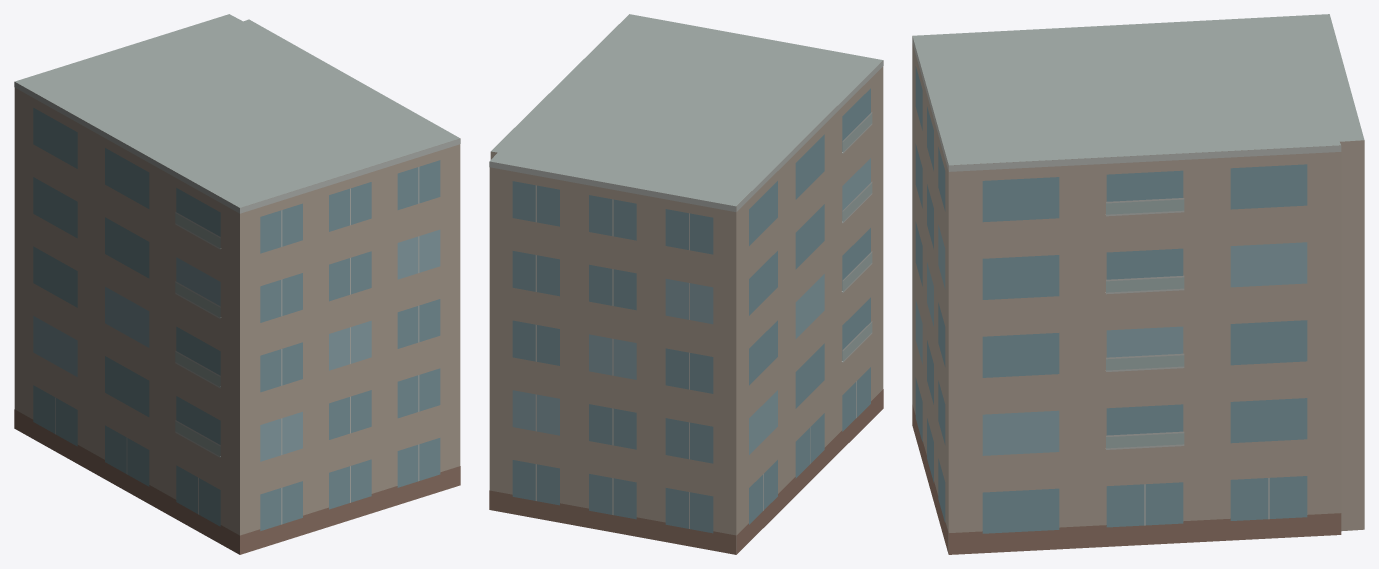
Rendered from survey-upis-32885169.glb.
3 renders of one model, left to right at view 1: azimuth 30°, elevation 25°; view 2: azimuth 150°, elevation 25°; view 3: azimuth 270°, elevation 25°, orthographic. The views are drawn at different scales.
Parts seen in each view (by area): view 1: survey-upis-32885169.tmp; view 2: survey-upis-32885169.tmp; view 3: survey-upis-32885169.tmp.
Part boxes in pixels (x1,y1,x2,y2): survey-upis-32885169.tmp: (14,14,460,554); survey-upis-32885169.tmp: (489,14,883,554); survey-upis-32885169.tmp: (912,14,1364,554).
Bounding box in the file's own units: 12.18 × 14.6 × 15.37.
